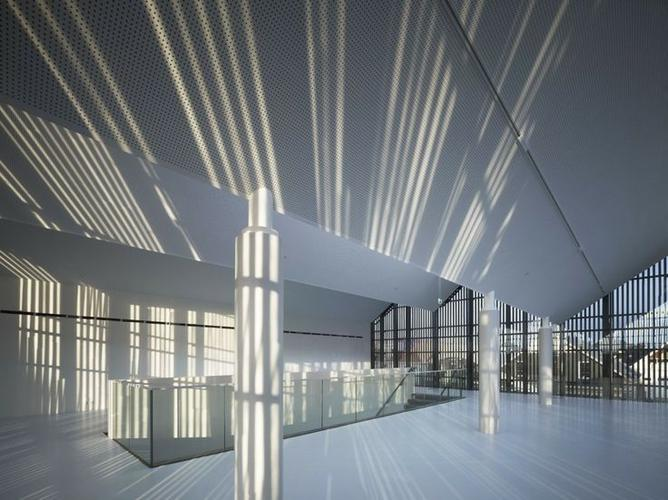buildings: (12, 137, 285, 476)
